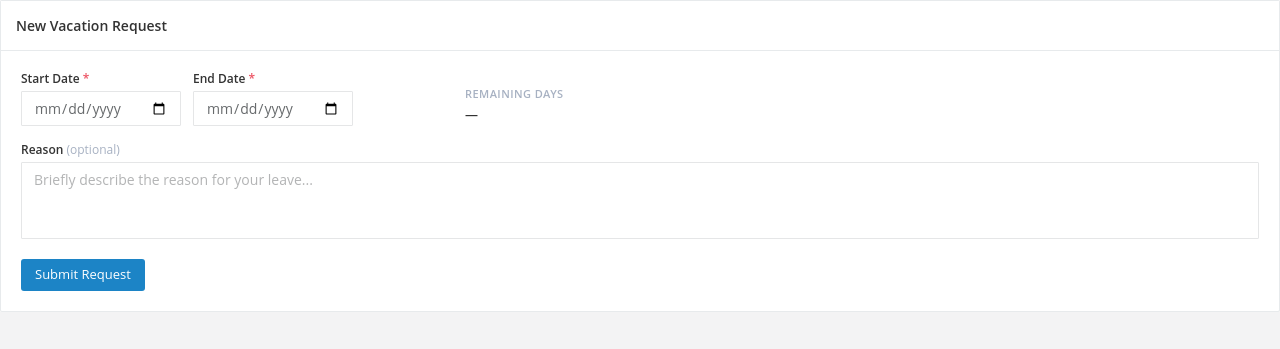
Scenario: VacationForm › shows error when end date is before start date
Type "2026-08-10" into the date field below "Start Date".
click(101, 108); type("2026-08-10")  # box x1=21 y1=91 x2=181 y2=126
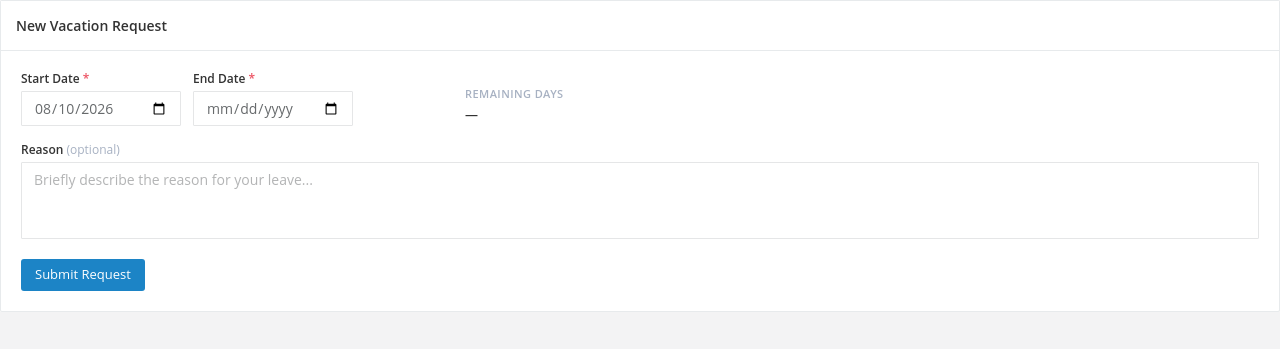
Type "2026-08-01" into the date field below "End Date".
click(273, 108); type("2026-08-01")  # box x1=193 y1=91 x2=353 y2=126
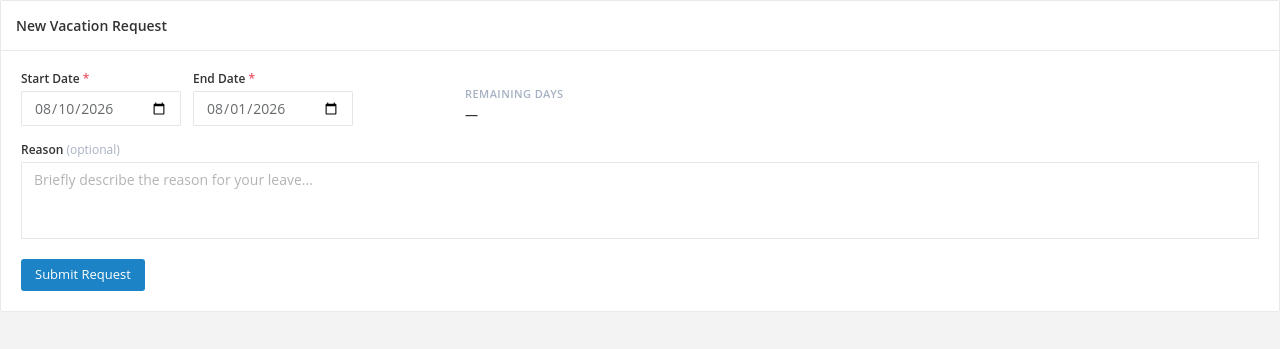
Submit the form
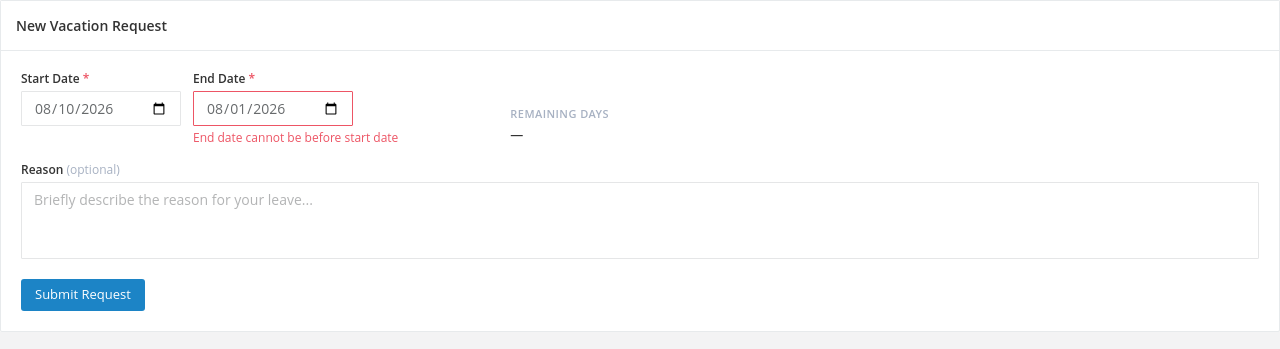
Expected: the text "End date cannot be before start date" is shown, x1=193 y1=130 x2=398 y2=146
